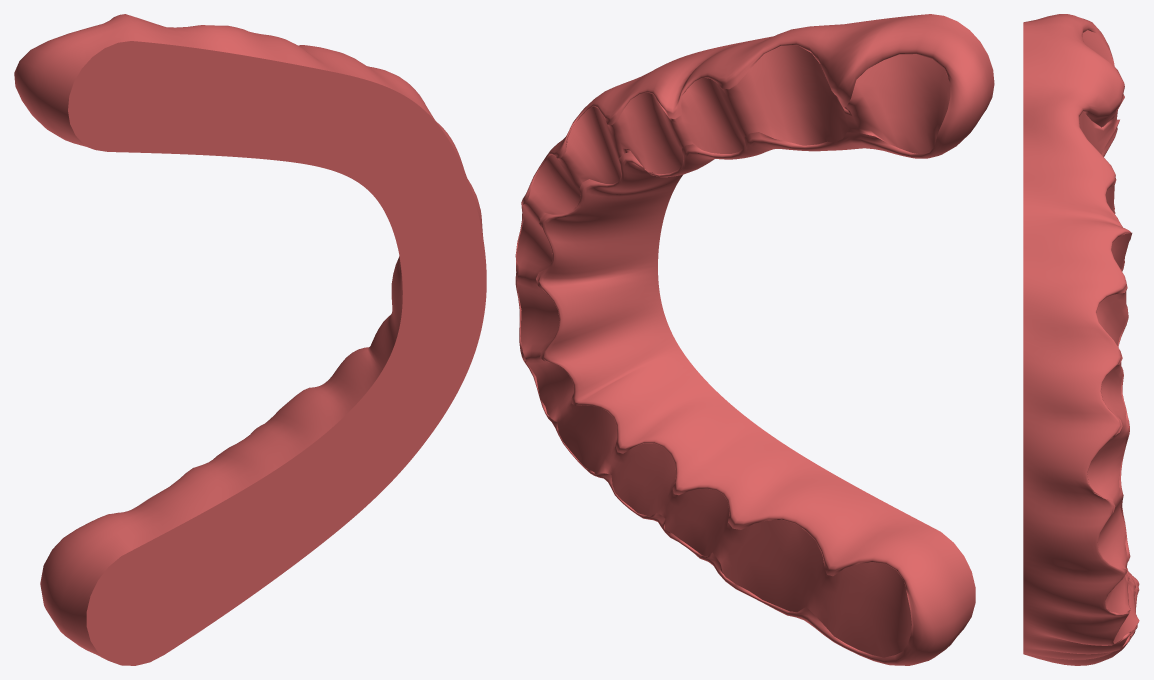
3 views of the same model, side by side, from view 1: azimuth 30°, elevation 25°; view 2: azimuth 150°, elevation 25°; view 3: azimuth 270°, elevation 25° (orthographic). The views are drawn at different scales.
Size of the model in its own units: 49.91 by 66.07 by 11.47.
